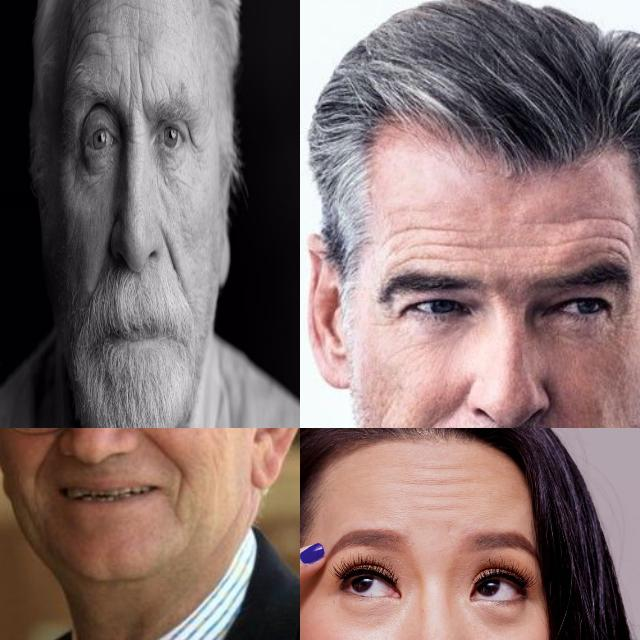forehead: (406, 474, 459, 514), (386, 220, 434, 262), (443, 220, 477, 266), (600, 215, 634, 257), (78, 26, 102, 46), (135, 13, 143, 52)
frown_line: (138, 59, 150, 120), (125, 82, 134, 115)
gummy_smile: (139, 428, 187, 472), (28, 428, 61, 483), (94, 238, 112, 276), (162, 236, 177, 272), (403, 415, 433, 428)
sad_smile: (168, 476, 196, 534)
